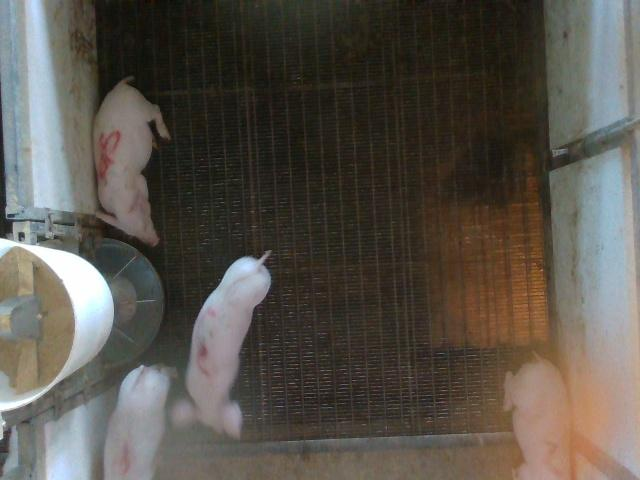pig-1: (104, 365, 171, 478)
pig-2: (504, 355, 571, 479)
pig-3: (170, 251, 271, 438)
pig-5: (94, 76, 171, 246)
